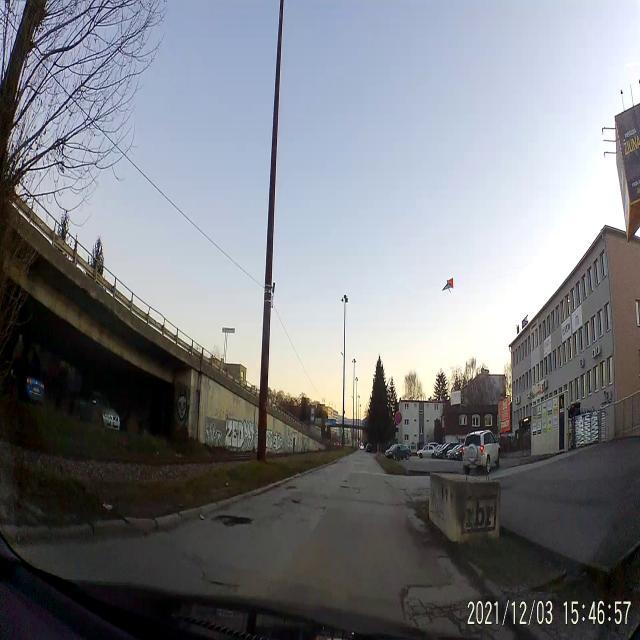Pothole: (212, 511, 252, 530), (290, 494, 304, 508)
